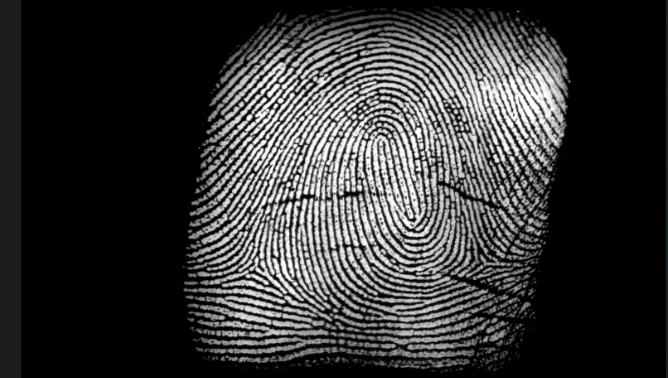nucelo: (368, 128, 394, 163)
verticilo: (464, 244, 503, 277), (244, 250, 273, 283)
